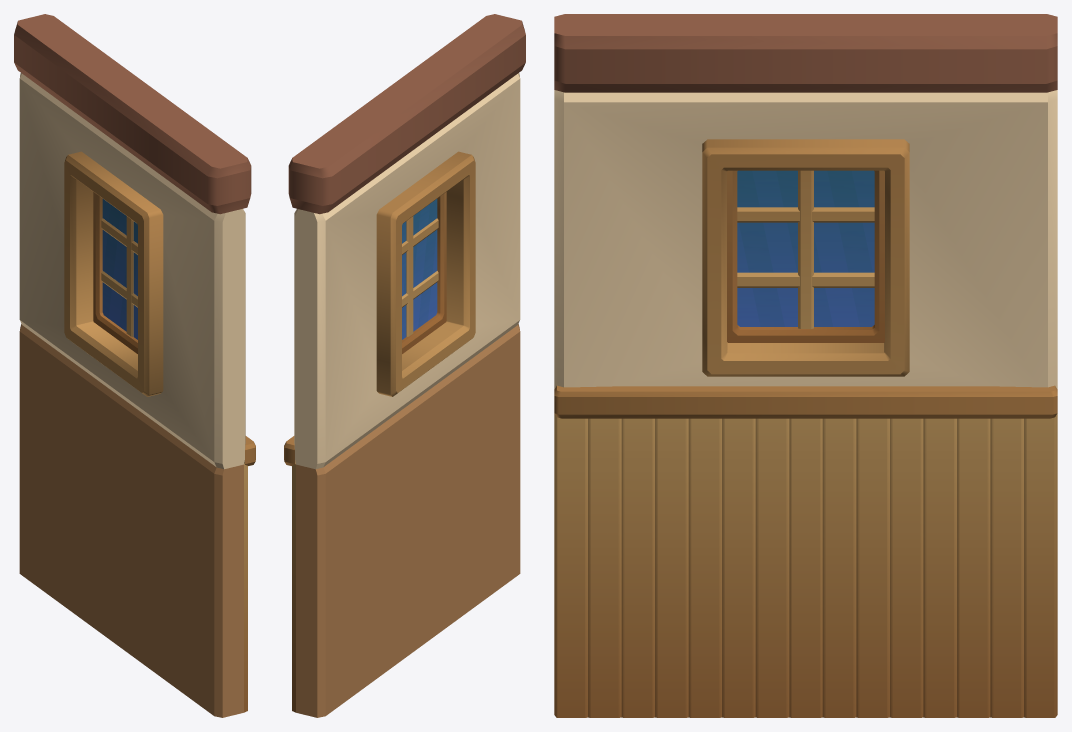
The model's file is Wall_B_11.glb.
3 renders of one model, left to right at view 1: azimuth 30°, elevation 25°; view 2: azimuth 150°, elevation 25°; view 3: azimuth 270°, elevation 25°, orthographic. The views are drawn at different scales.
Visible parts, largest first — view 1: Wall_B_11; view 2: Wall_B_11; view 3: Wall_B_11.
Part boxes in pixels (bbox=[...]): Wall_B_11: bbox=[14, 14, 255, 717]; Wall_B_11: bbox=[284, 14, 525, 717]; Wall_B_11: bbox=[554, 14, 1057, 717].
Bounding box in the file's own units: 0.3277 × 3 × 2.
2 materials, 2 textured.
